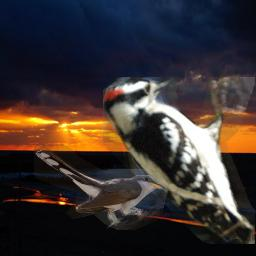Cuckoo: (34, 144, 168, 230)
Woodpecker: (103, 77, 255, 244)
